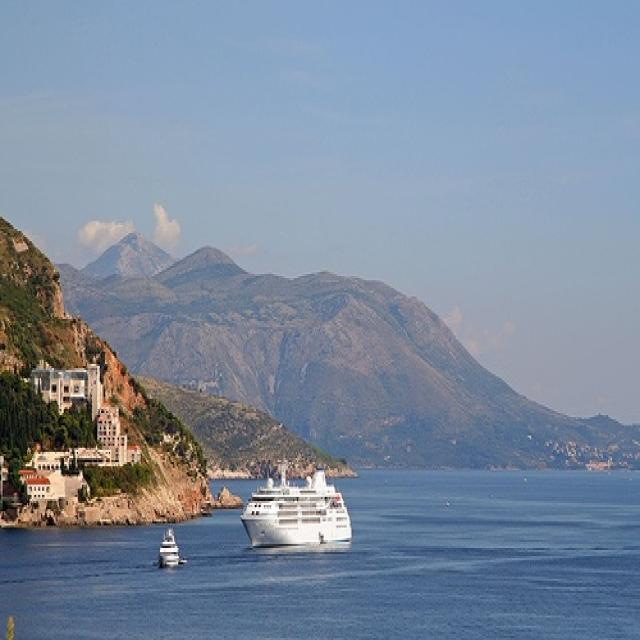boat: (241, 462, 352, 548), (158, 530, 180, 568)
